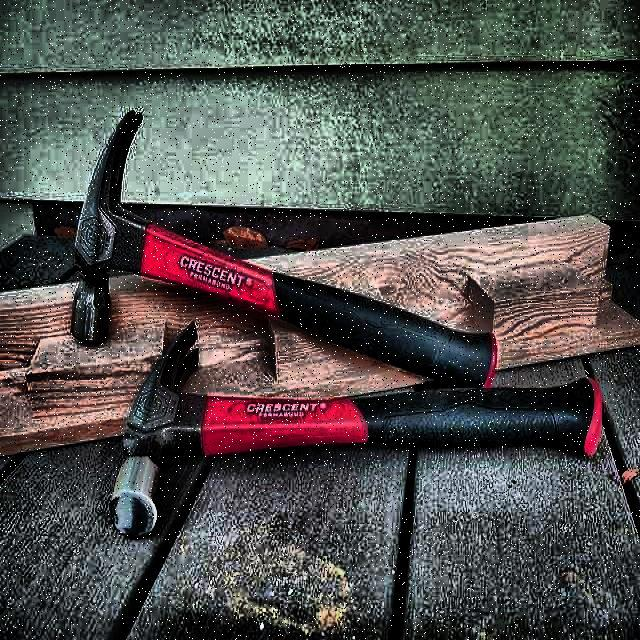hammer: (71, 109, 495, 389), (108, 318, 602, 538)
